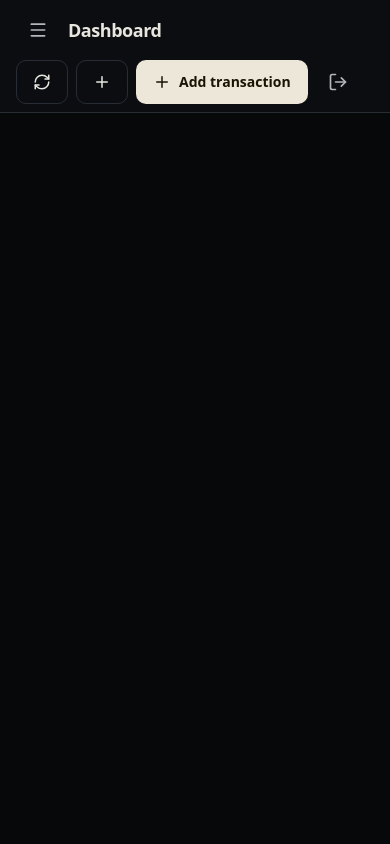
Test: AppLayout (REDESIGN Phase 1 shell) › opens the mobile drawer and closes it with Escape
Click the button named "open navigation" at (38, 30), box [16,8,60,52]
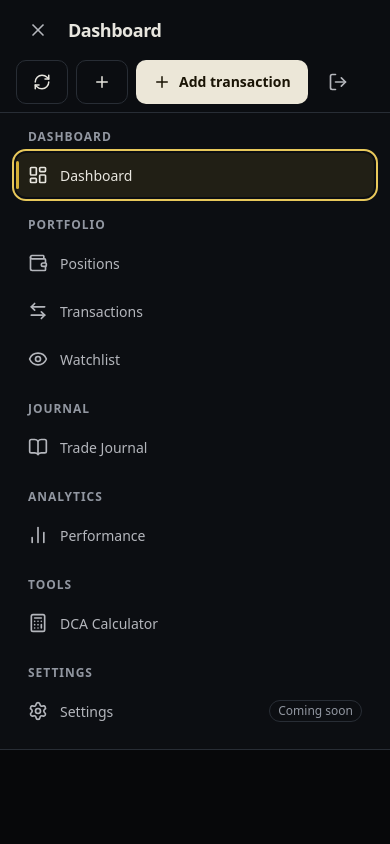
expect the dialog named "navigation" is shown: met
Press Escape
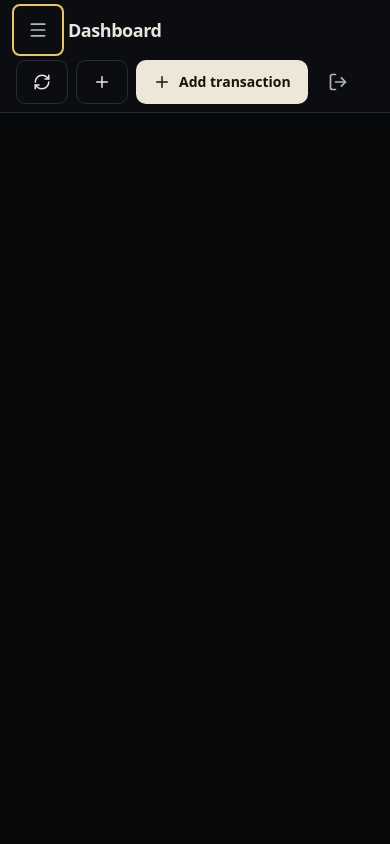
expect the dialog "navigation" is gone: met
